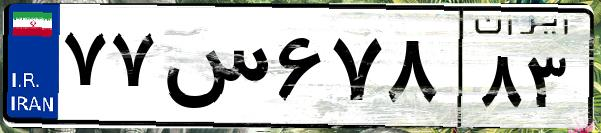3: (525, 38, 570, 115)
6: (270, 28, 330, 110)
7: (330, 28, 385, 110), (57, 26, 110, 100), (110, 28, 158, 98)
8: (385, 28, 445, 110), (475, 38, 525, 113)
س: (158, 20, 270, 120)
